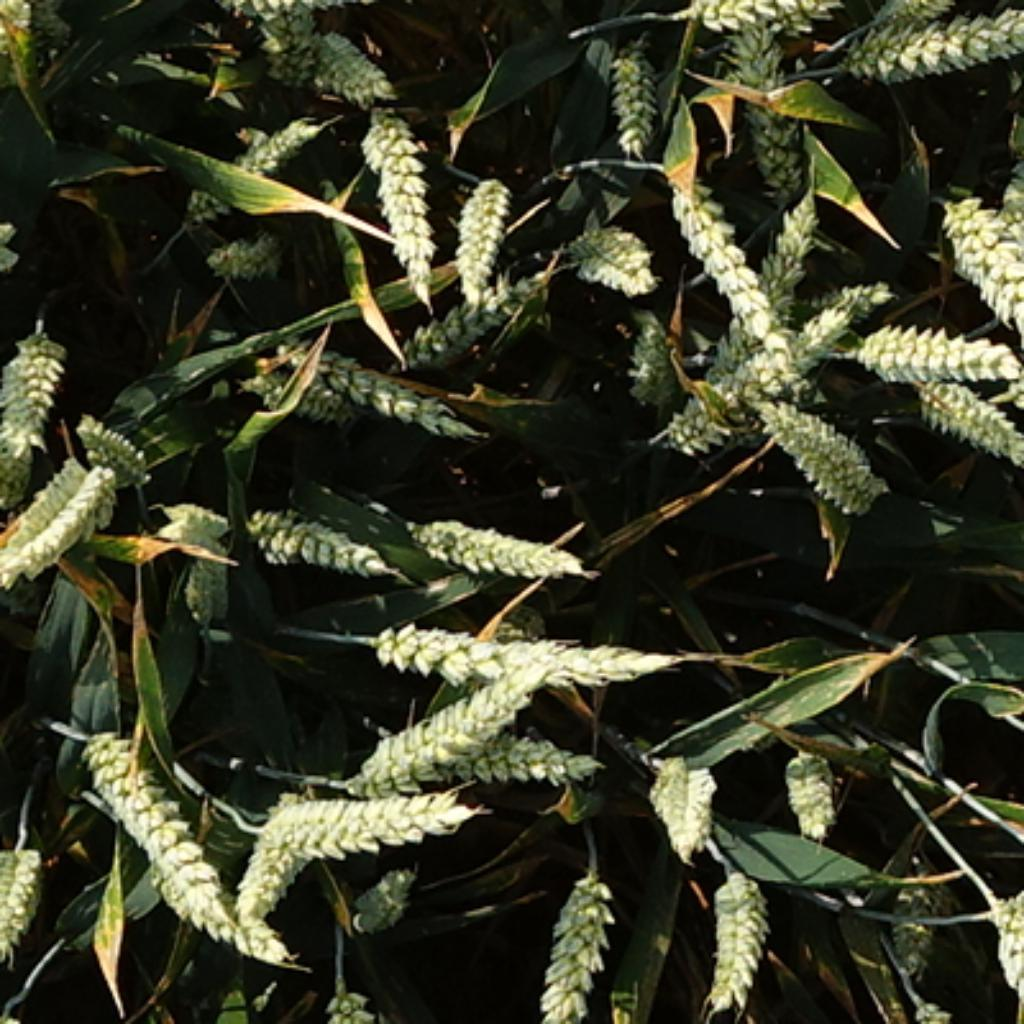0-0: (665, 289, 880, 455), (76, 719, 235, 926), (706, 166, 816, 427), (353, 650, 560, 785), (238, 322, 463, 435), (373, 622, 688, 688), (386, 263, 565, 378), (663, 163, 783, 332), (240, 778, 468, 865), (358, 94, 440, 312), (184, 107, 322, 227), (757, 381, 883, 512), (520, 864, 617, 1023), (826, 10, 1018, 90), (148, 870, 299, 970), (2, 453, 115, 581), (732, 0, 808, 179), (938, 182, 1024, 340), (407, 512, 588, 583), (240, 494, 394, 576), (401, 727, 606, 788), (283, 16, 416, 103), (701, 870, 778, 1016), (857, 312, 1024, 378), (232, 791, 309, 921), (911, 381, 1024, 468), (2, 322, 69, 455), (450, 176, 514, 307), (642, 757, 721, 862), (558, 217, 655, 299), (599, 40, 663, 163), (872, 867, 949, 967), (226, 0, 300, 92), (240, 368, 353, 427), (778, 752, 844, 847), (2, 844, 53, 965), (659, 0, 846, 32), (624, 309, 686, 404), (343, 855, 422, 929), (981, 863, 1024, 991), (74, 412, 151, 483), (204, 227, 294, 281), (798, 284, 896, 330), (156, 488, 232, 547), (176, 550, 235, 622), (1023, 774, 1024, 965)
